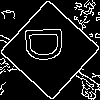D: (25, 25, 72, 63)
